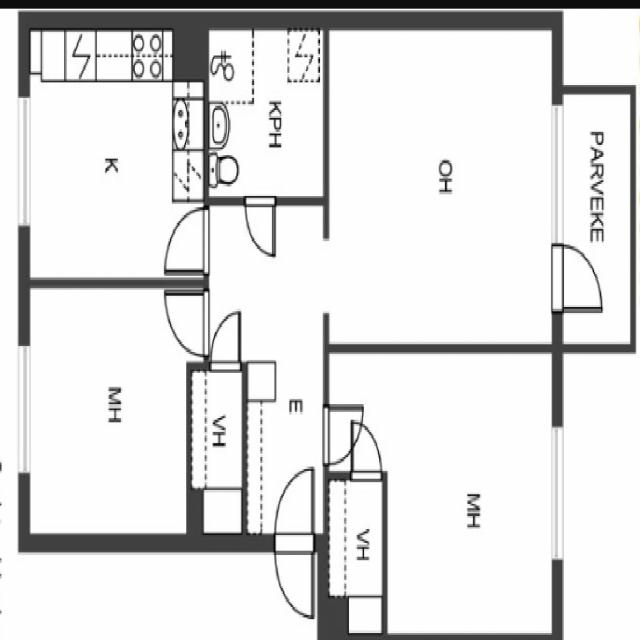door: (552, 243, 602, 309), (274, 533, 313, 617), (274, 469, 313, 552), (166, 292, 209, 355), (166, 210, 209, 273), (323, 408, 362, 464), (245, 198, 275, 256), (210, 313, 240, 370), (352, 423, 380, 479)
